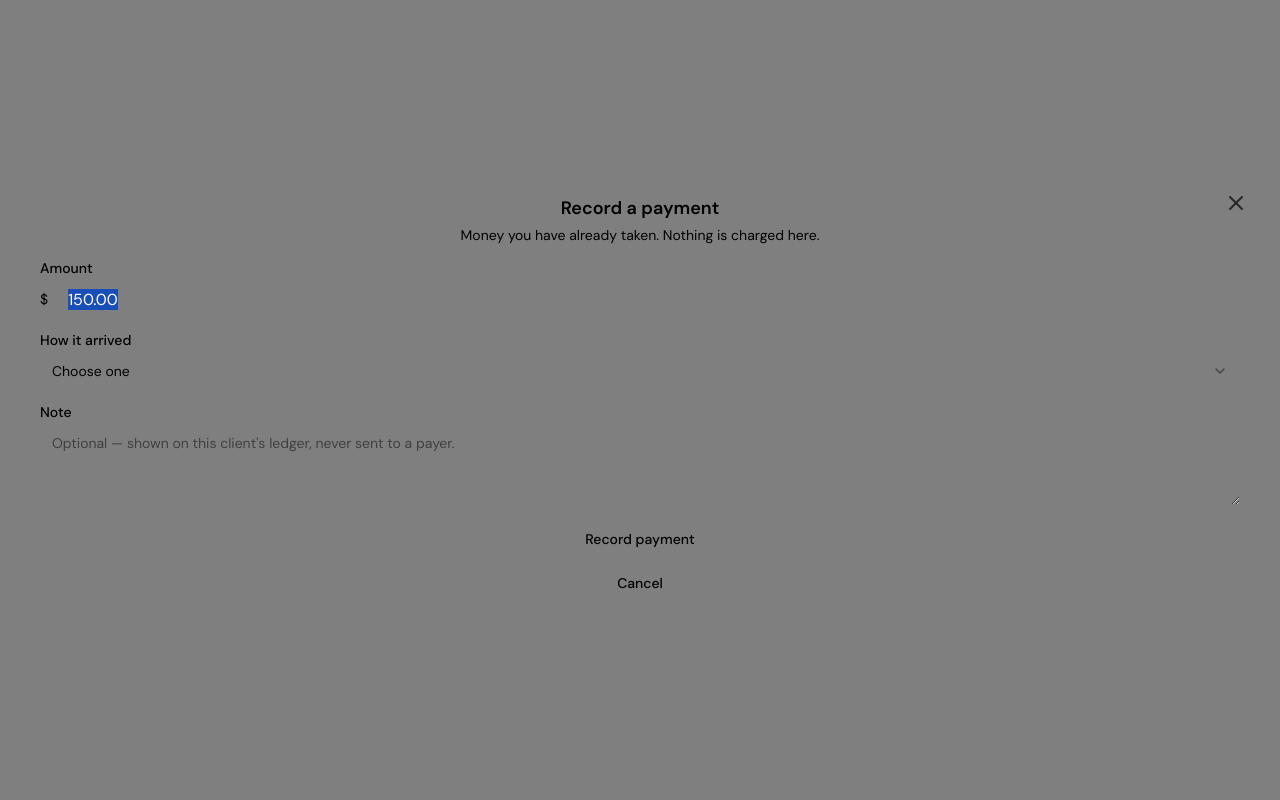
Test case: RecordPaymentDialog › does not offer card
The width and height of the screenshot is (1280, 800).
Click the dropdown named "how it arrived" at (91, 371), box [40, 353, 1240, 389]
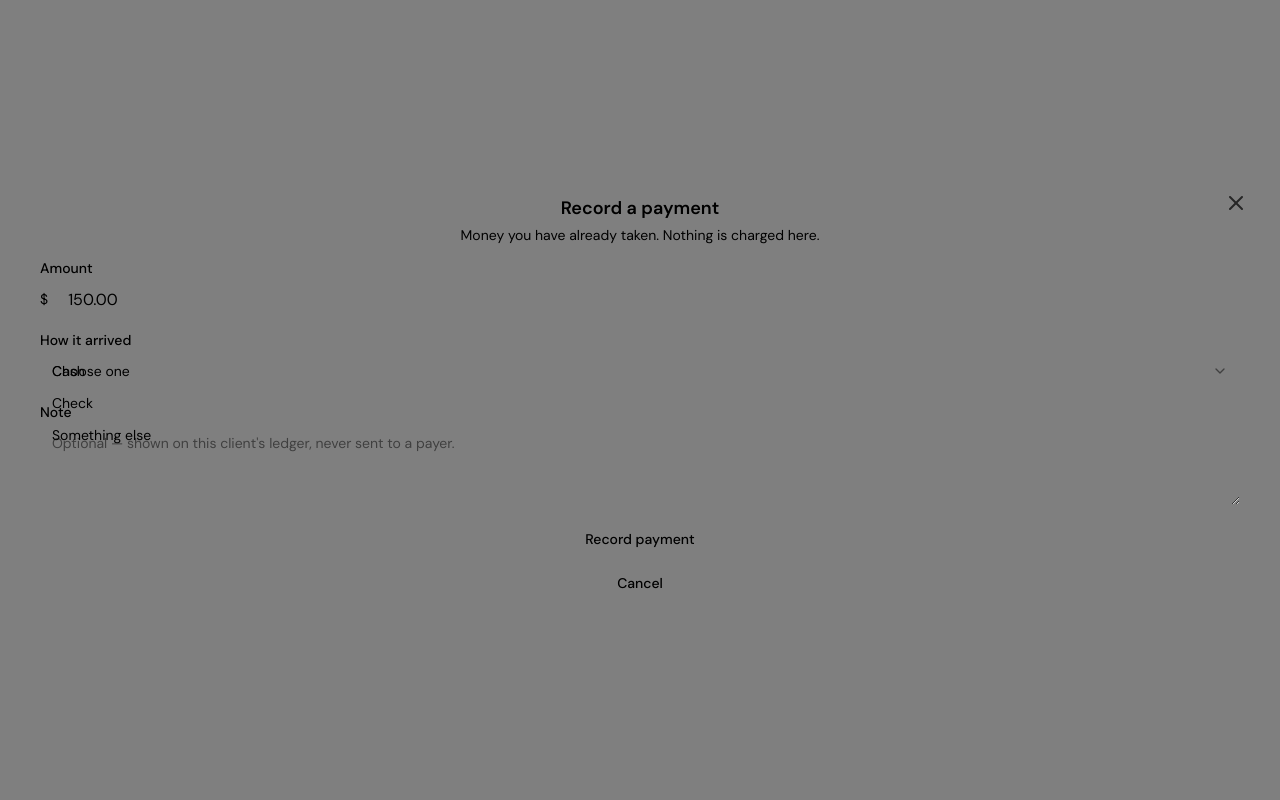
Expected: the option "Cash" is shown, [52, 362, 85, 380]
